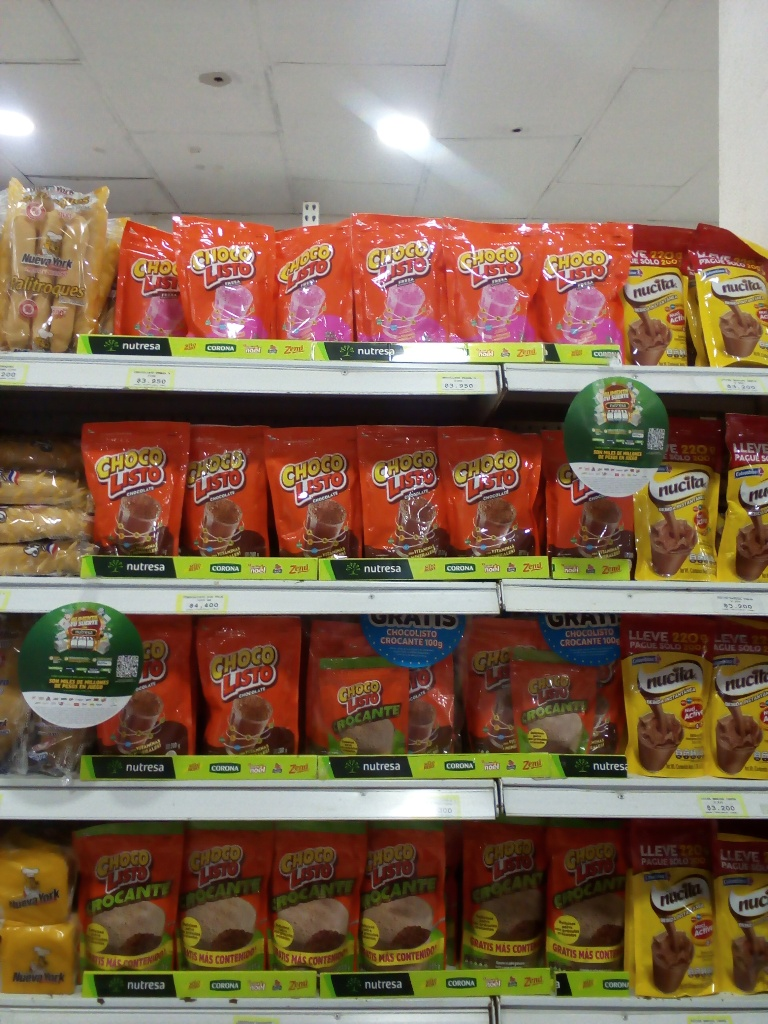COL0170102DYP10000: (514, 648, 595, 753)
COL0170103DYP20000: (543, 433, 632, 558)
